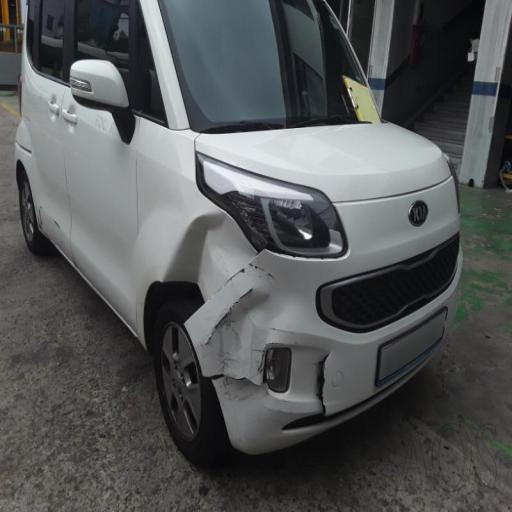broken: (197, 245, 330, 440)
dent: (154, 188, 227, 298)
